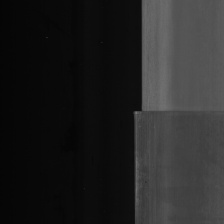welding_line: (130, 101, 224, 119)
